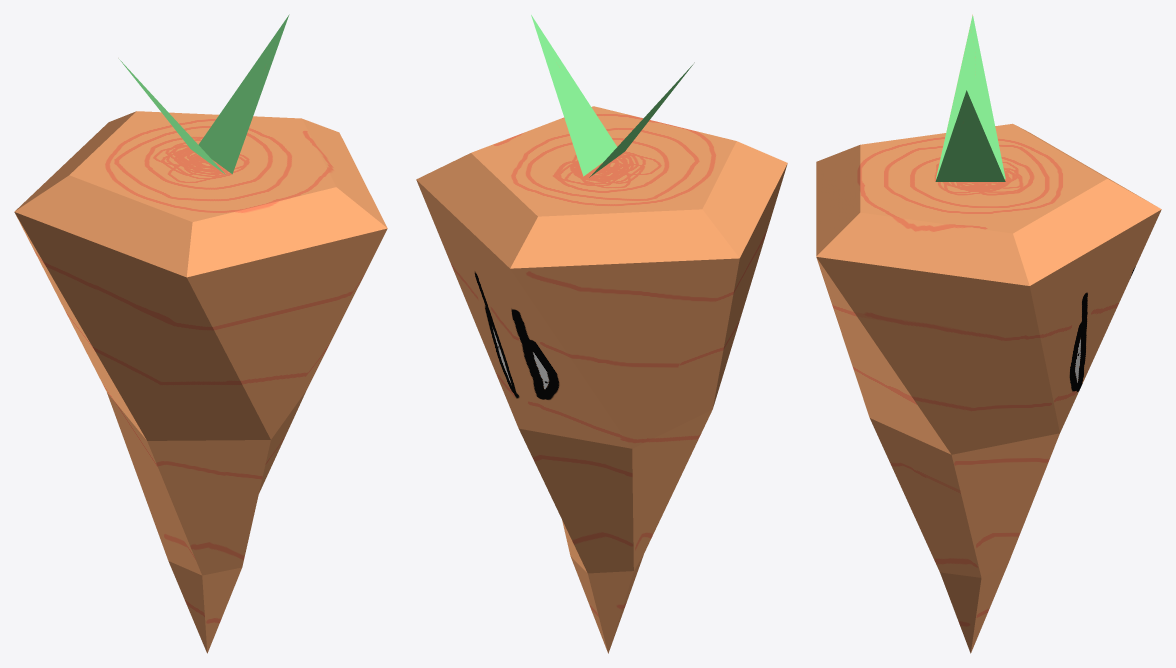
Rendered from CArrot.glb.
3 renders of one model, left to right at view 1: azimuth 30°, elevation 25°; view 2: azimuth 150°, elevation 25°; view 3: azimuth 270°, elevation 25°, orthographic. The views are drawn at different scales.
Visible parts, largest first — view 1: Cone; view 2: Cone; view 3: Cone.
Part boxes in pixels (<box>): Cone: <box>14,14,387,653</box>; Cone: <box>416,15,787,653</box>; Cone: <box>816,14,1161,653</box>.
Size of the model in its own units: 1.9 by 3.48 by 1.81.
Materials: 1 (1 with a texture image).
